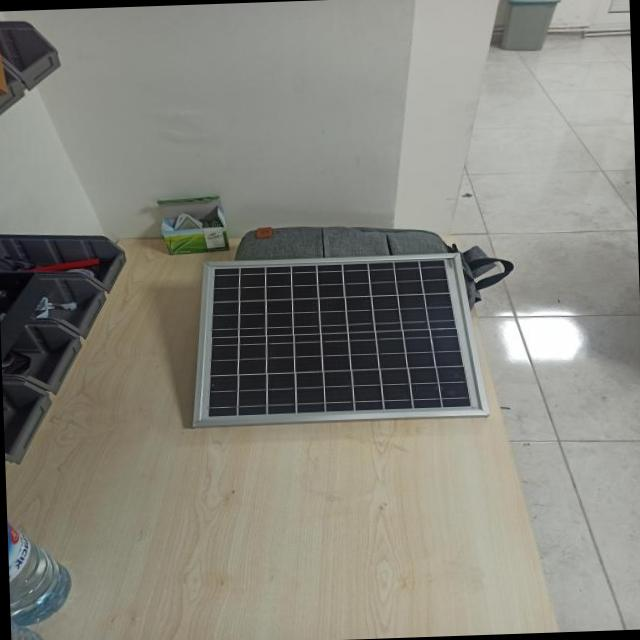no faulty: (207, 257, 466, 412)
